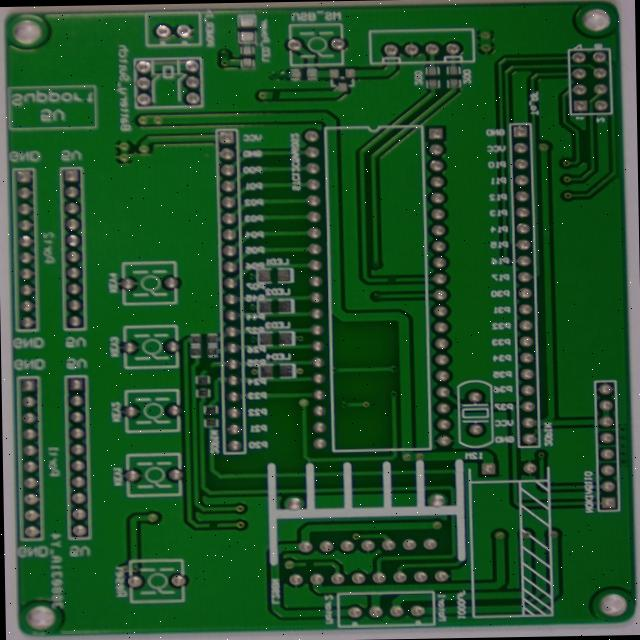open_circuit: (242, 401, 260, 416), (324, 97, 344, 110), (248, 581, 267, 590), (363, 625, 384, 633), (464, 307, 482, 315)
